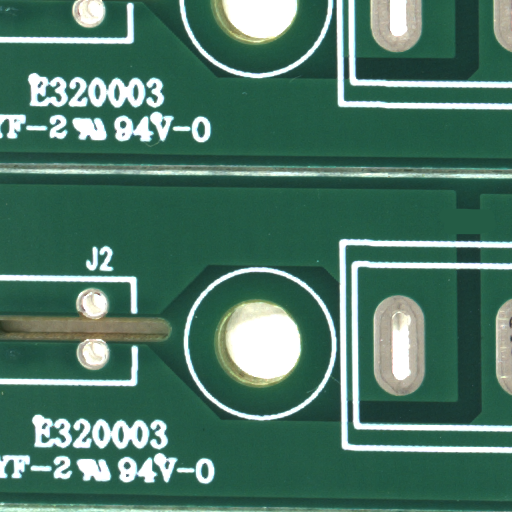Short: (467, 220, 512, 259)
